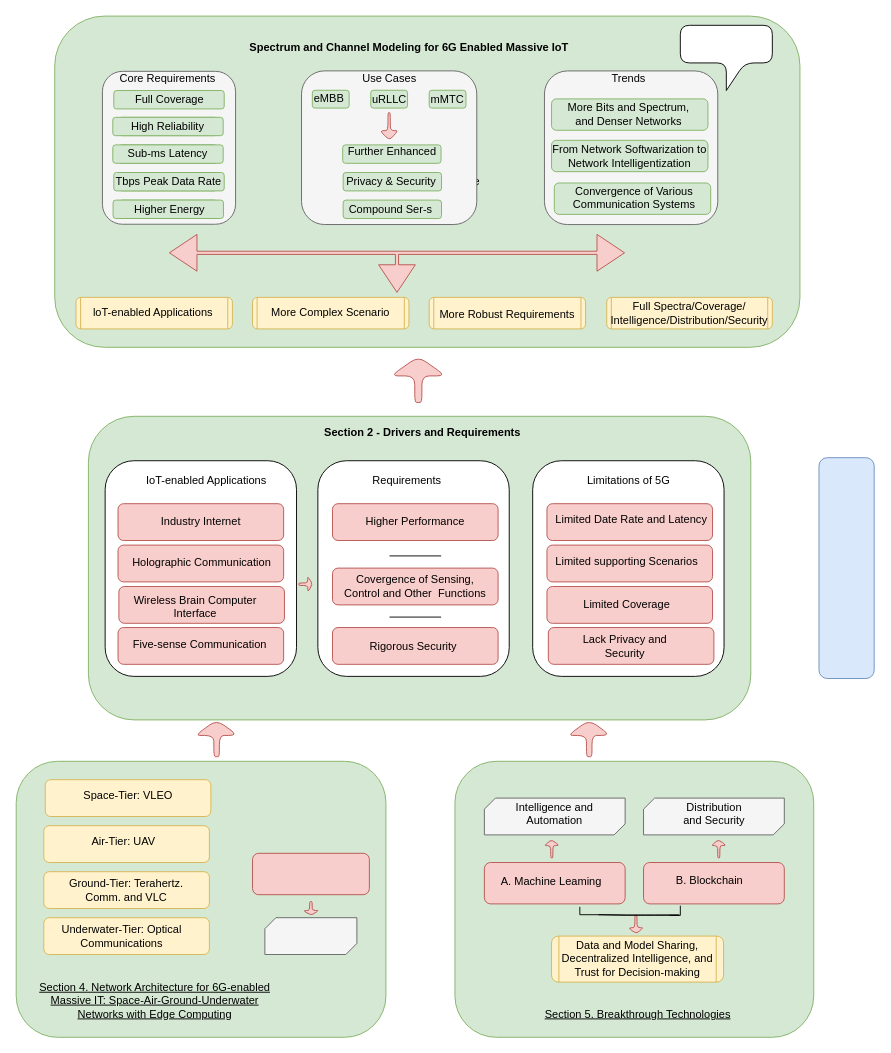
The diagram is 891 pixels wide and 1053 high, and some of its shapes have lost their labels. Here are the shapes that lost their labels. From the top down, the centre of each, then its label:
At point (725, 57): "Section 3 Visions of 6G :".
At point (846, 567): "Sabergaliyeva Laura & Utkelbayeva Genevieva".
At point (310, 873): "Edge Computing".
At point (310, 935): "Storage and Computation".
